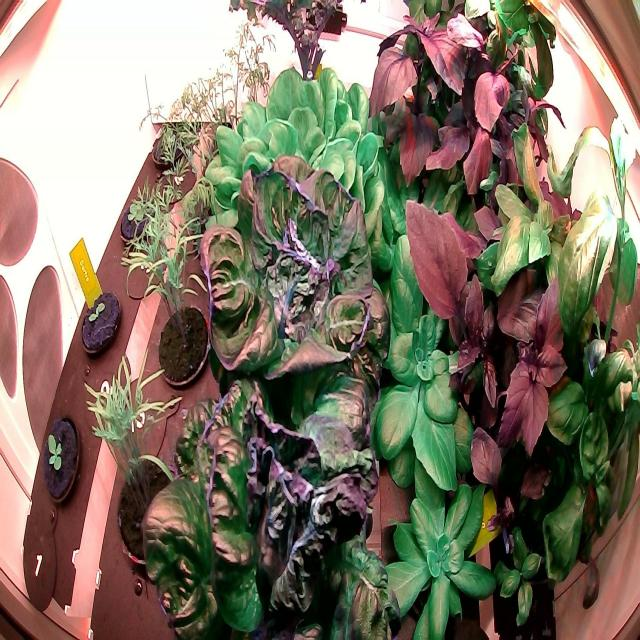Ready: (136, 352, 411, 640), (193, 139, 400, 422), (201, 57, 395, 286)
germination: (76, 282, 125, 362)
young: (362, 232, 500, 498), (366, 482, 499, 640), (36, 412, 85, 512), (116, 181, 156, 257)
